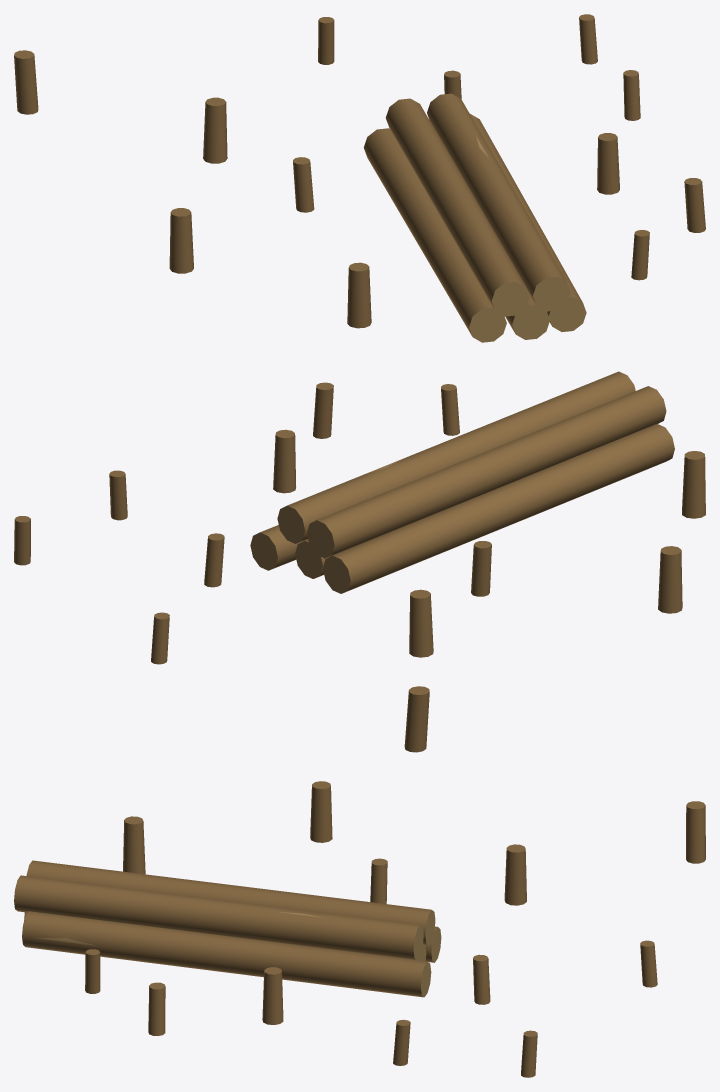
The model's file is Trees cut-zhm3D5KKRh.glb.
The picture shows the model from 3 angles, top to bottom: view 1: azimuth 30°, elevation 25°; view 2: azimuth 150°, elevation 25°; view 3: azimuth 270°, elevation 25°; orthographic projection. The views are drawn at different scales.
Parts seen in each view (by area): view 1: Resource_Tree_Group_Cut; view 2: Resource_Tree_Group_Cut; view 3: Resource_Tree_Group_Cut.
Part boxes in pixels (x1,y1,x2,y2): Resource_Tree_Group_Cut: [14, 14, 705, 342]; Resource_Tree_Group_Cut: [14, 371, 705, 752]; Resource_Tree_Group_Cut: [14, 781, 705, 1077].
Size of the model in its own units: 1.53 by 0.17 by 1.84.
